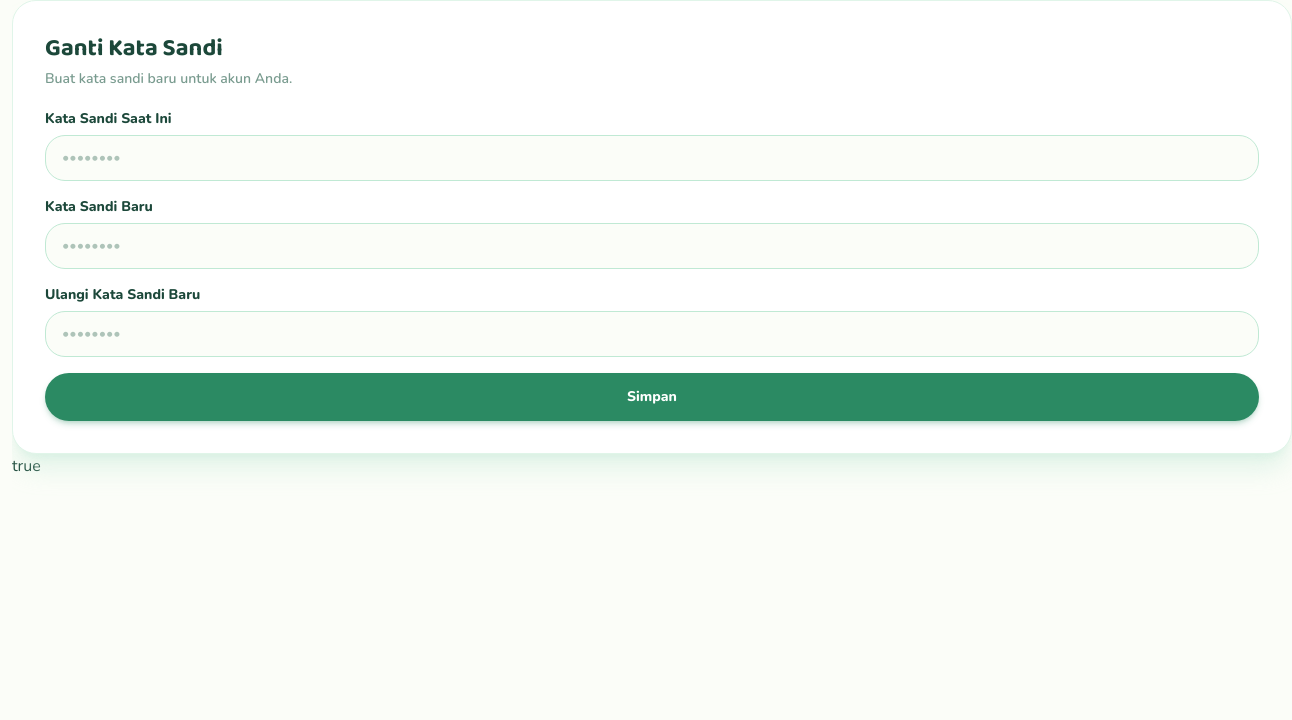
it: ChangePassword › shows the backend message on other 422 errors
Type "secret1" into the password field labelled "Kata Sandi Saat Ini" at (652, 158), box [45,135,1259,181]
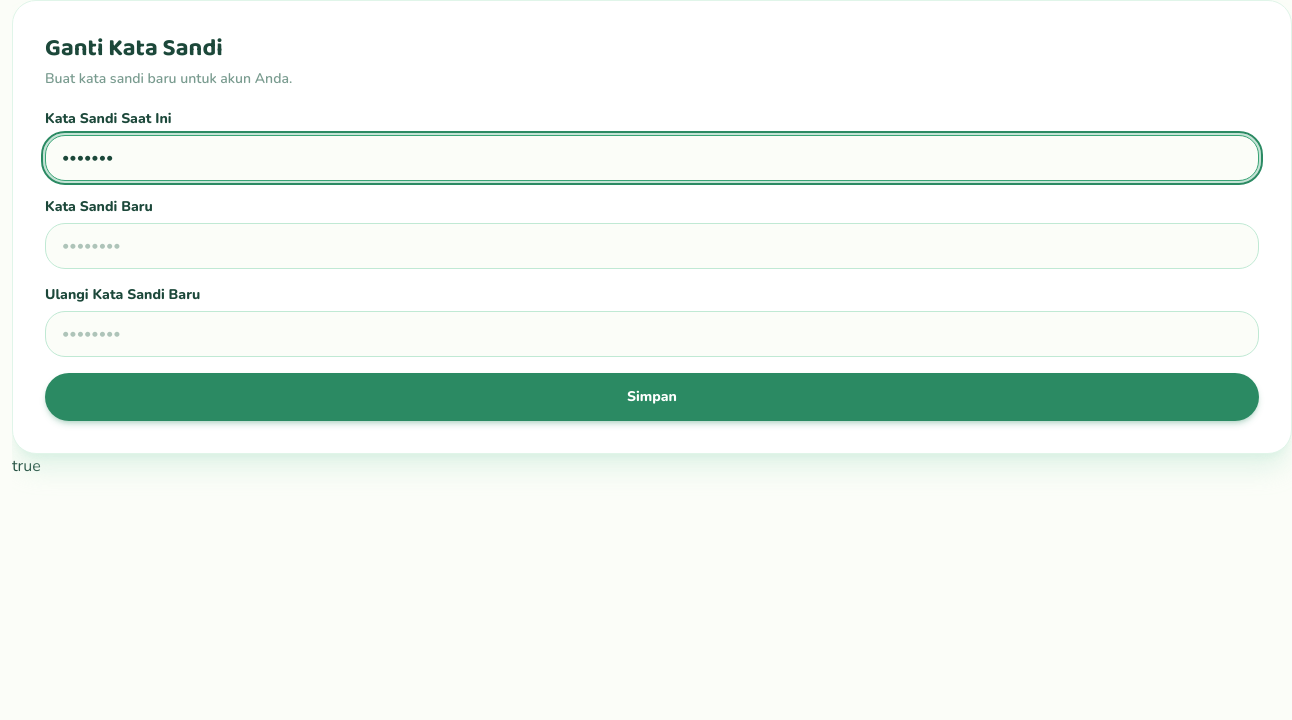
Type "rahasia123" into the password field labelled "Kata Sandi Baru" at (652, 246), box [45,223,1259,269]
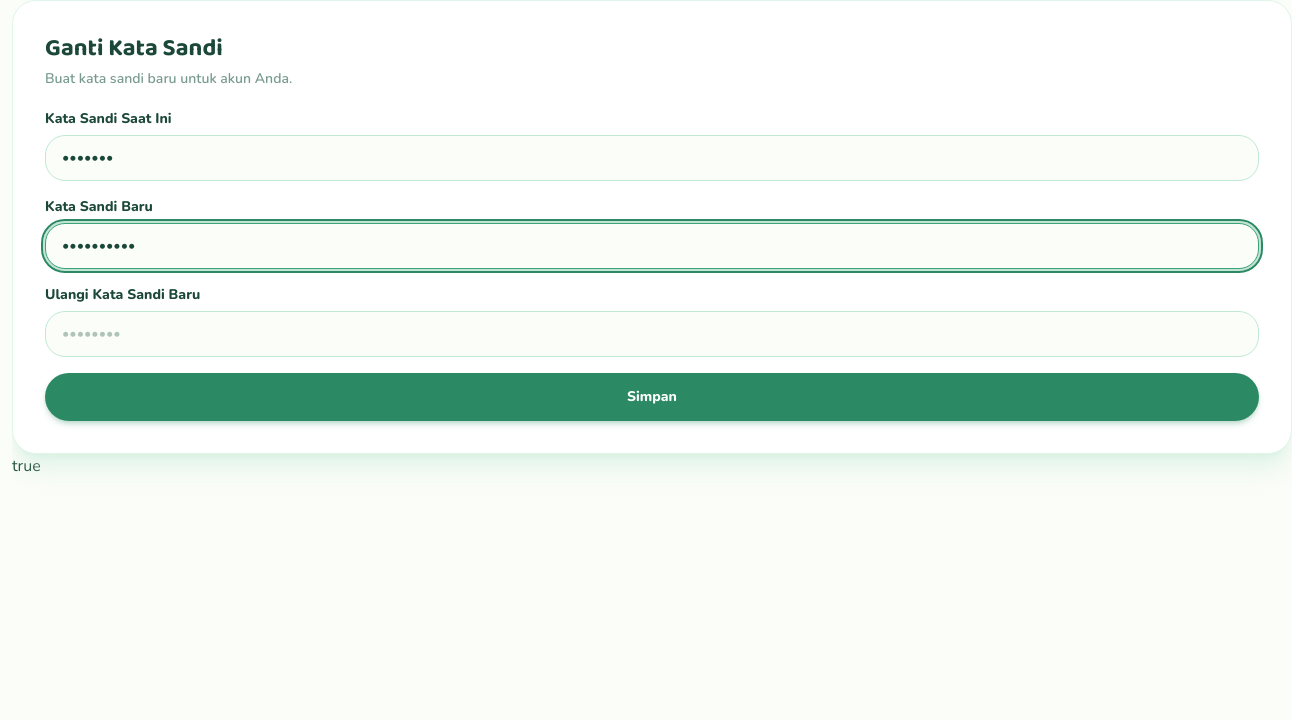
Type "rahasia123" into the password field labelled "Ulangi Kata Sandi Baru" at (652, 334), box [45,311,1259,357]
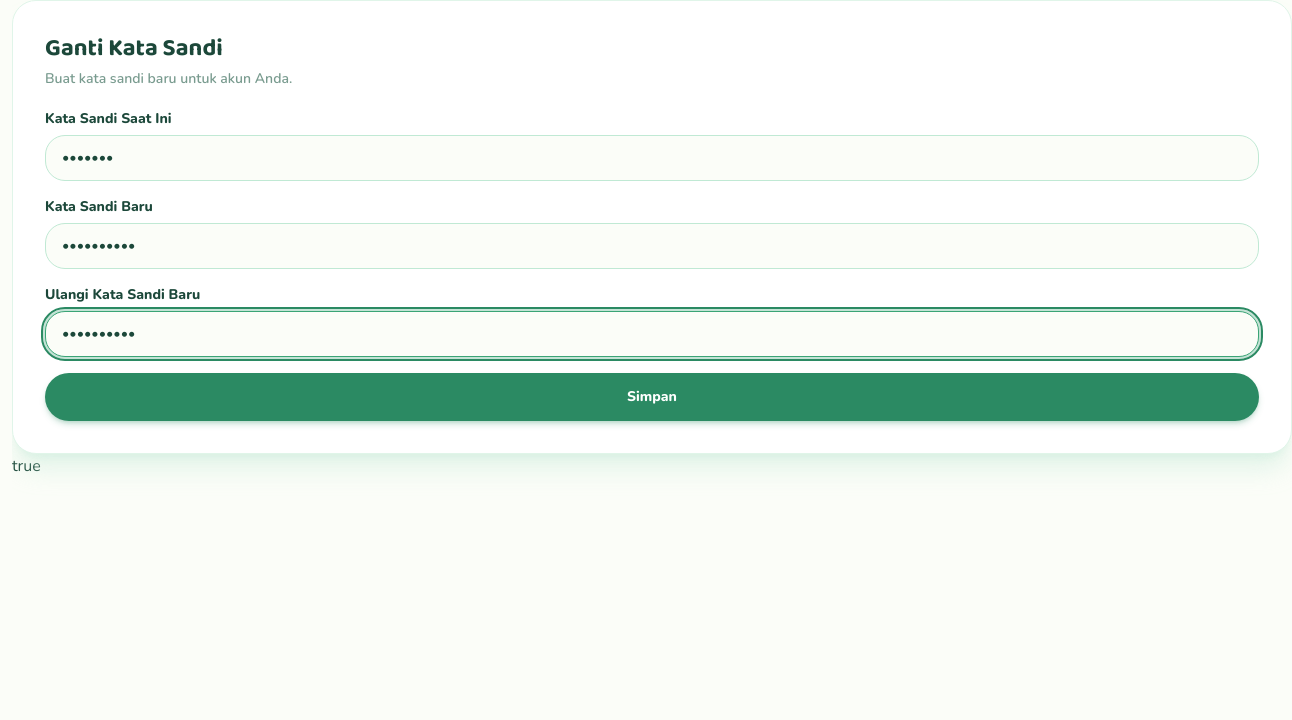
Click the button "Simpan" at (652, 397), box [45,373,1259,421]
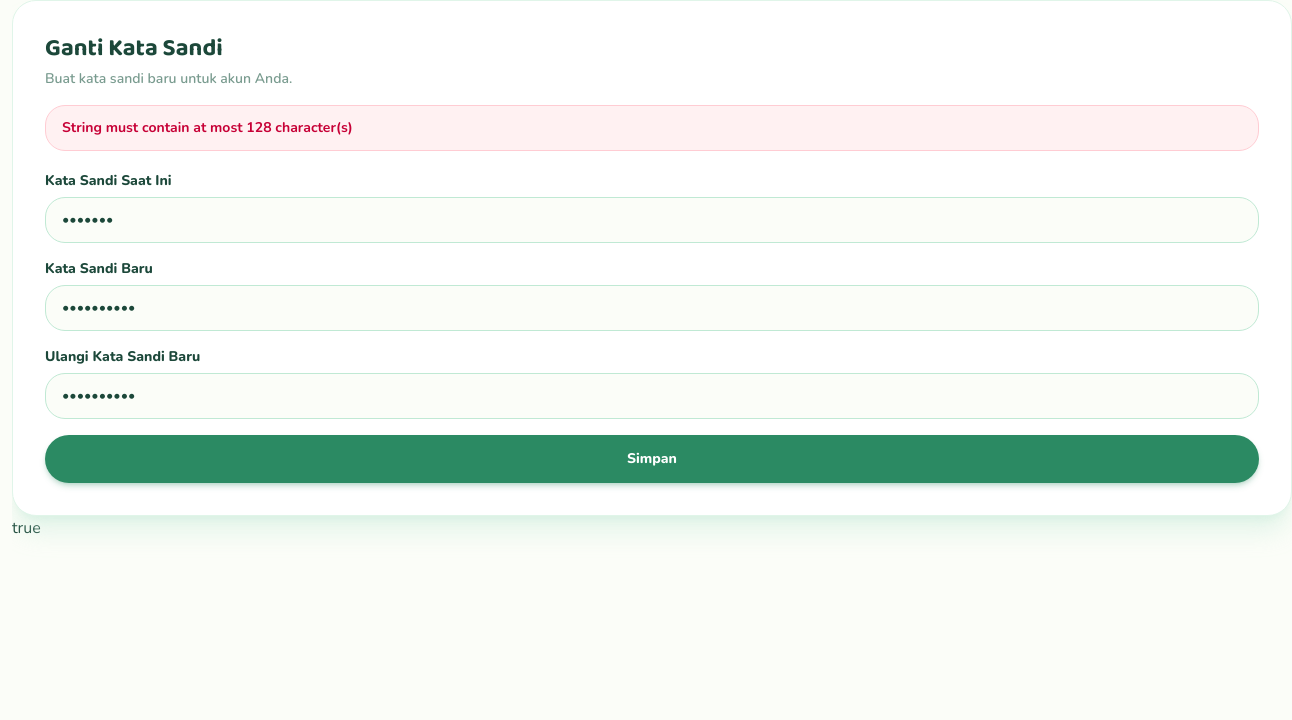
Check: the text "String must contain at most 128 character(s)" is shown, box [45,105,1259,151]
